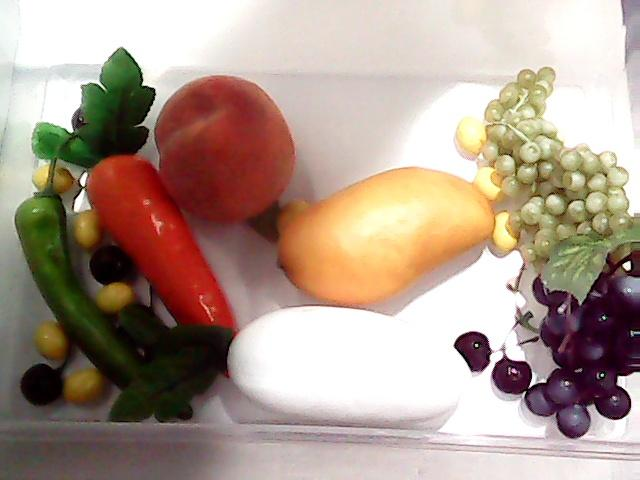carrot: (32, 47, 240, 376)
grape: (474, 64, 640, 268), (522, 248, 640, 440)
mango: (273, 165, 497, 305)
peach: (153, 75, 294, 225)
pepper: (11, 166, 192, 418)
radish: (110, 302, 474, 434)
